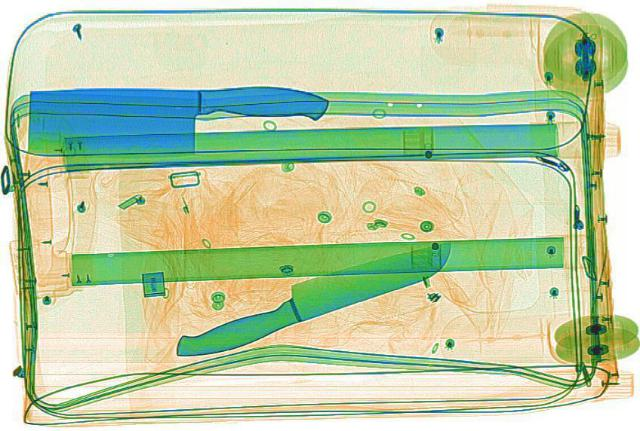Knife: (151, 224, 469, 373), (21, 77, 331, 164)
